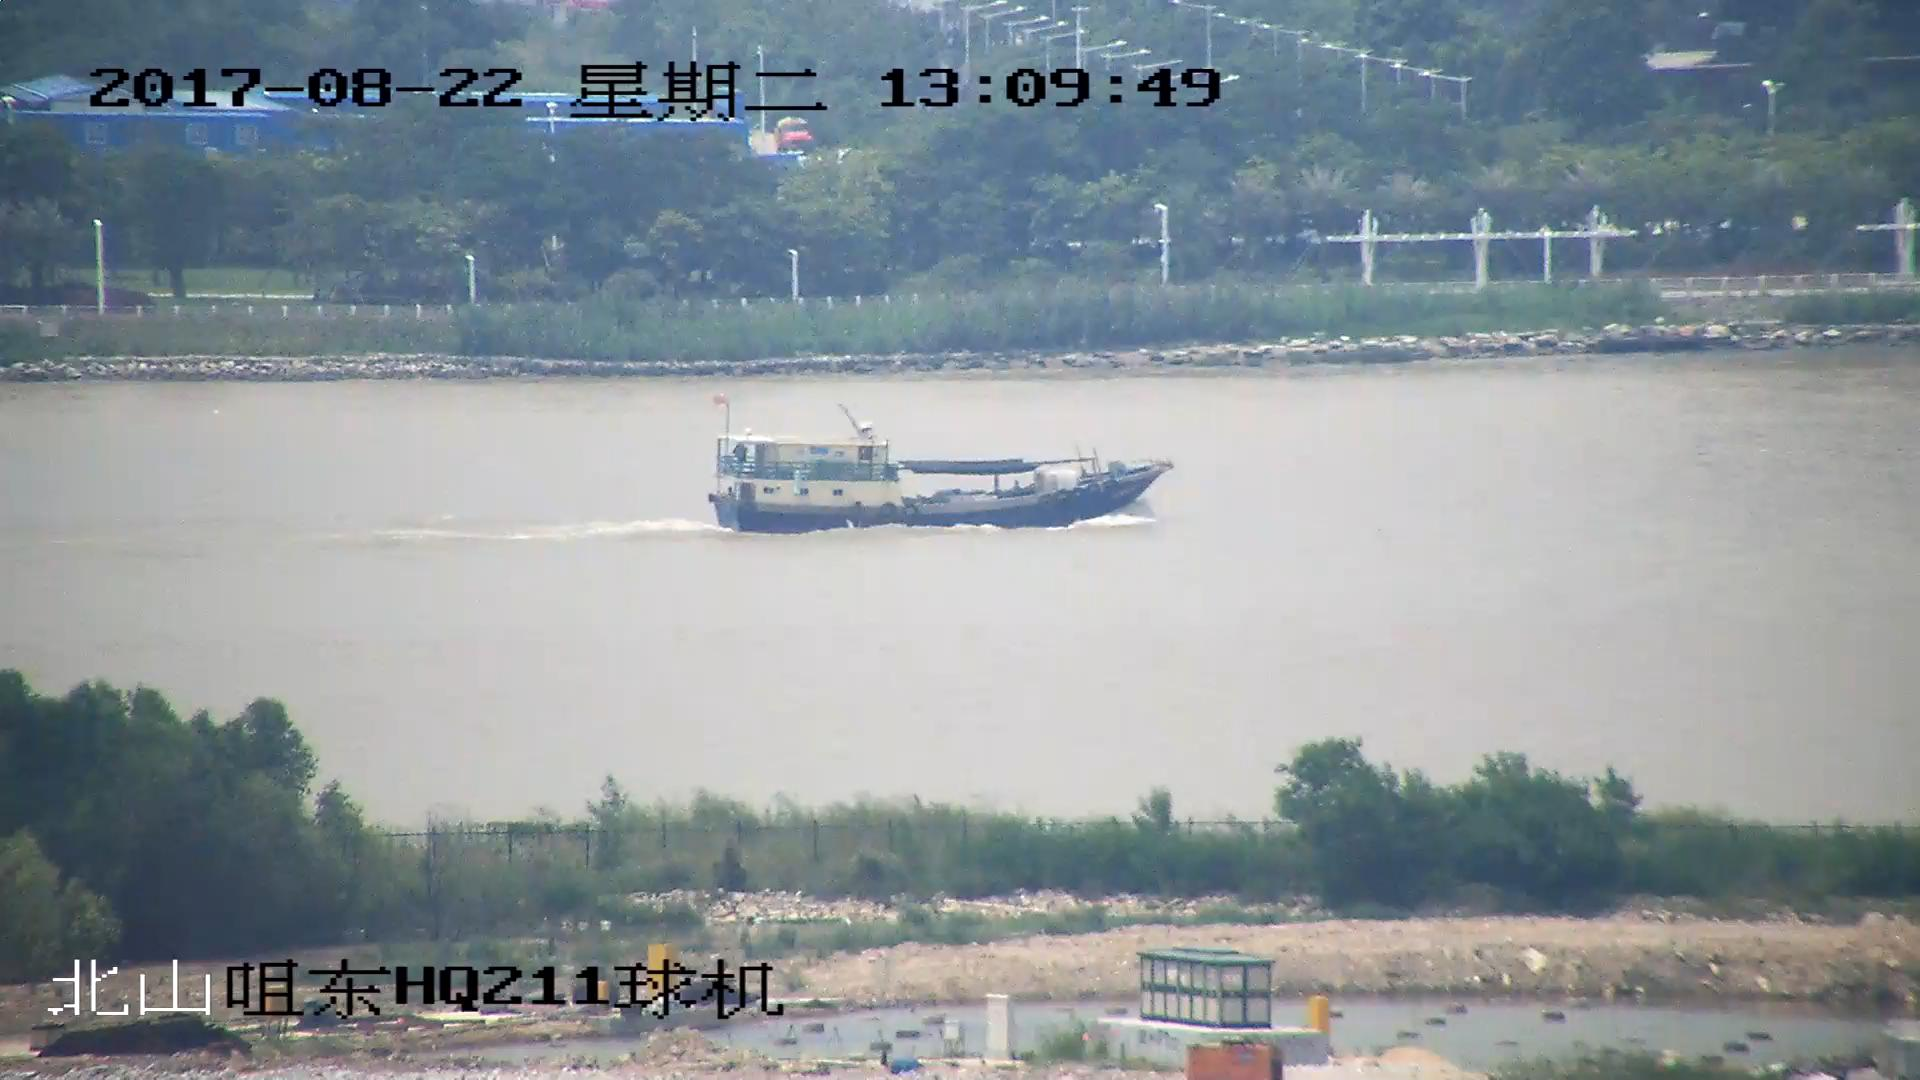fishing boat: (704, 396, 1173, 536)
